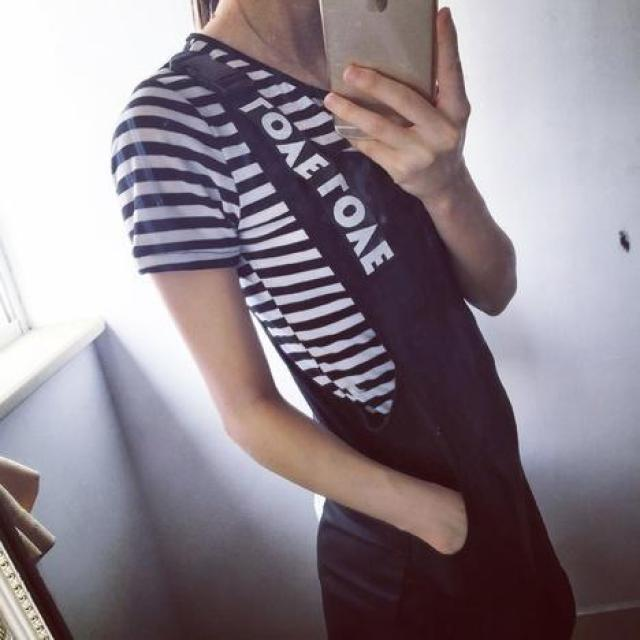short-sleeve-dress: (92, 24, 582, 638)
